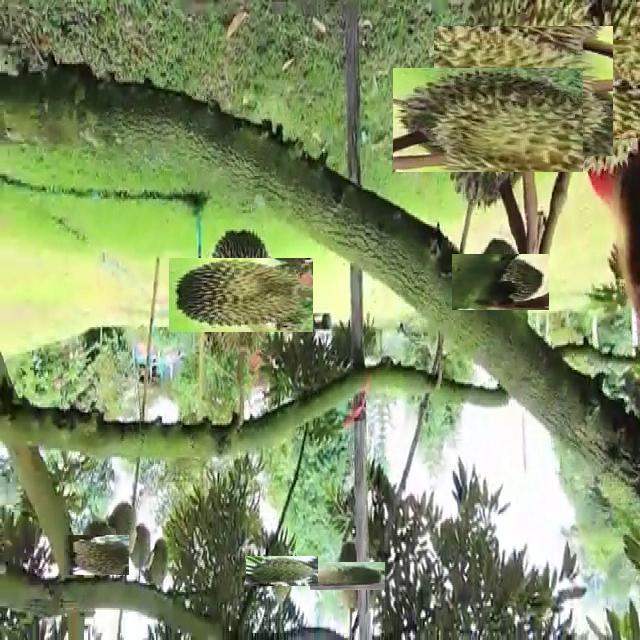durian: (446, 14, 601, 169), (414, 46, 562, 193), (524, 21, 640, 158), (186, 240, 295, 350), (462, 243, 540, 320), (70, 528, 124, 581), (322, 550, 374, 602), (256, 545, 307, 597), (106, 502, 140, 564), (149, 536, 175, 590), (128, 524, 154, 570)
